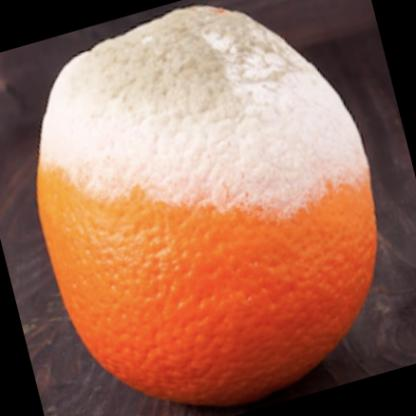rotten: (39, 8, 379, 407)
